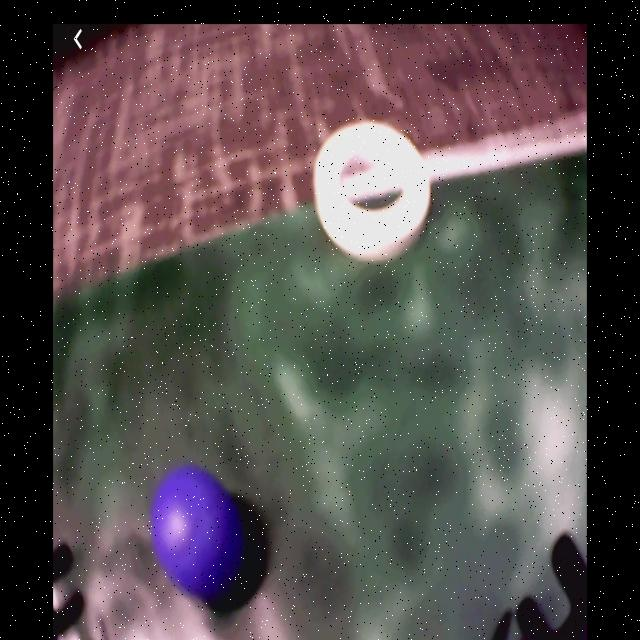ball: (149, 466, 245, 603)
